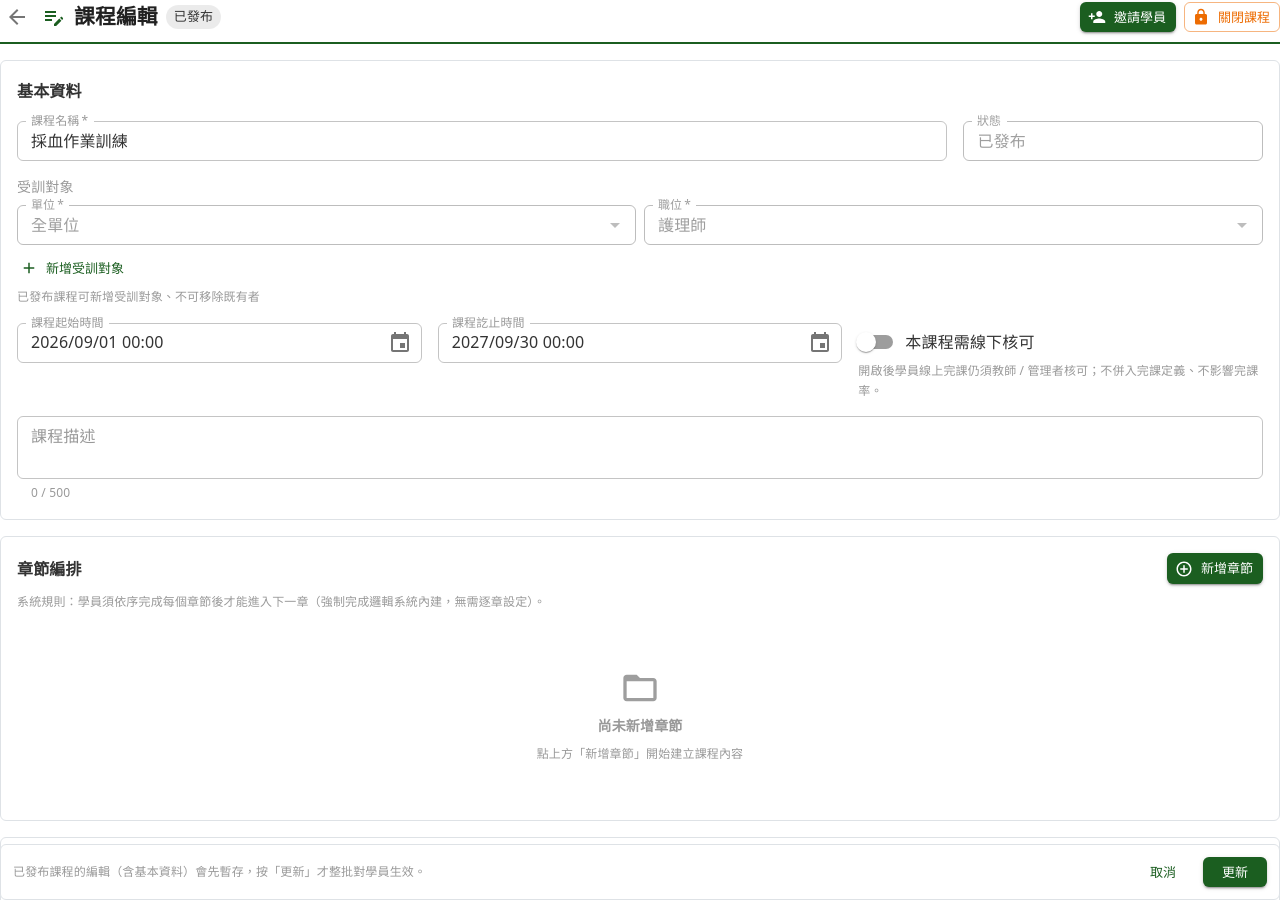
Test: ET05 視窗訊息內容安全網（#814） › A2 關閉課程 › 保留原句：關閉後學員無法加入、累積學習進度、開始新的測驗作答或填寫課後問卷，邀請碼與 Email 邀請一併暫時失效。
Click the button "關閉課程" at (1232, 17), box [1184,2,1279,32]
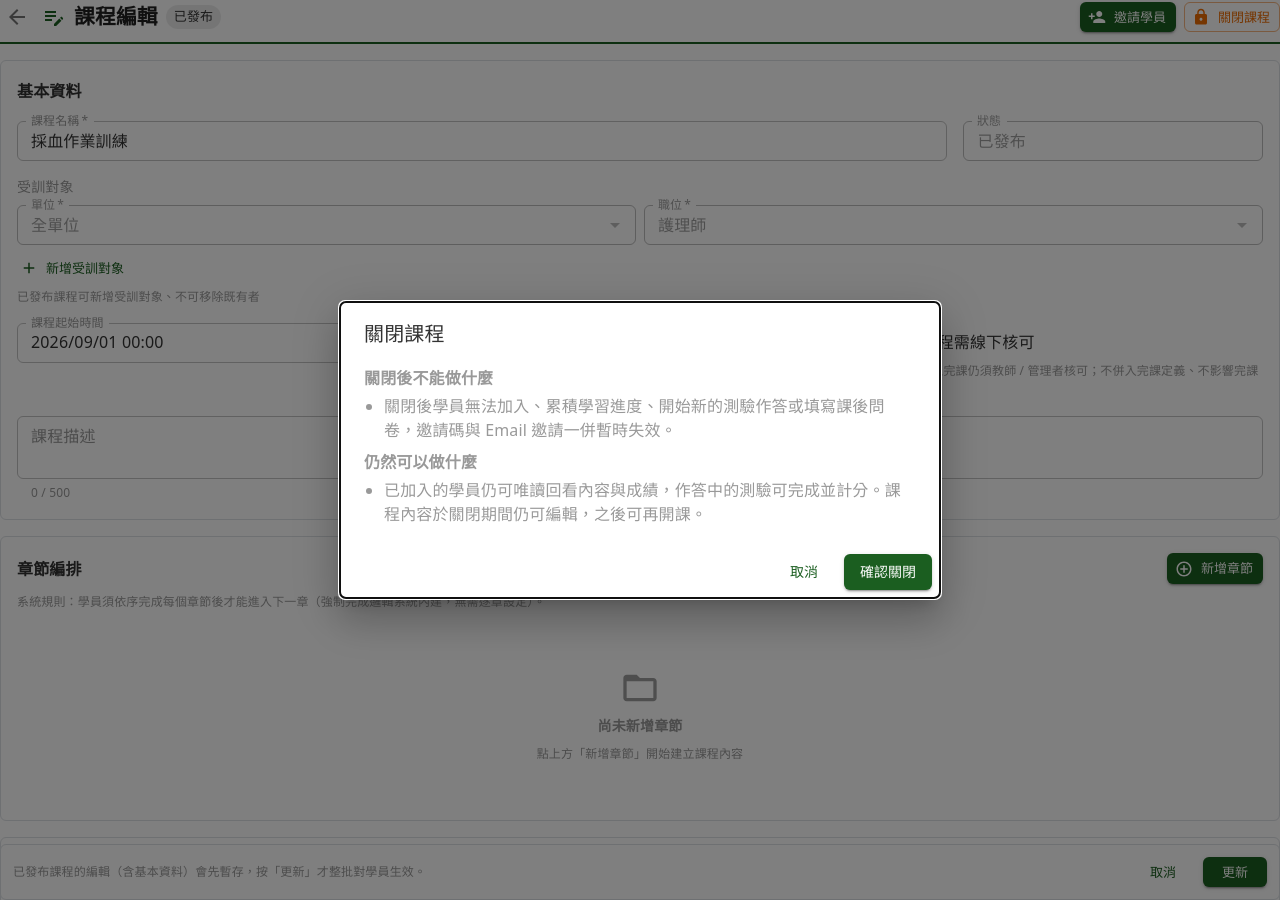
Result: the dialog shows "關閉後學員無法加入、累積學習進度、開始新的測驗作答或填寫課後問卷，邀請碼與 Email 邀請一併暫時失效。" at [384,395,885,441]
